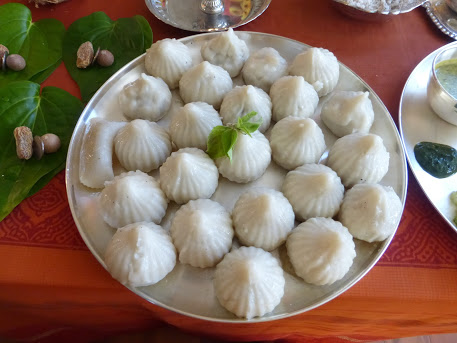modak: (204, 240, 295, 323), (111, 220, 178, 286), (291, 218, 356, 282), (100, 166, 168, 219), (285, 163, 345, 220), (176, 203, 237, 259), (327, 132, 396, 181), (237, 190, 294, 247), (268, 115, 330, 163), (322, 86, 381, 136), (116, 119, 176, 167), (344, 184, 399, 236), (157, 143, 215, 192), (173, 97, 224, 149), (222, 84, 278, 131), (116, 76, 181, 112), (273, 77, 322, 121), (234, 47, 288, 85), (297, 47, 342, 89), (179, 64, 229, 98), (149, 36, 191, 74)
